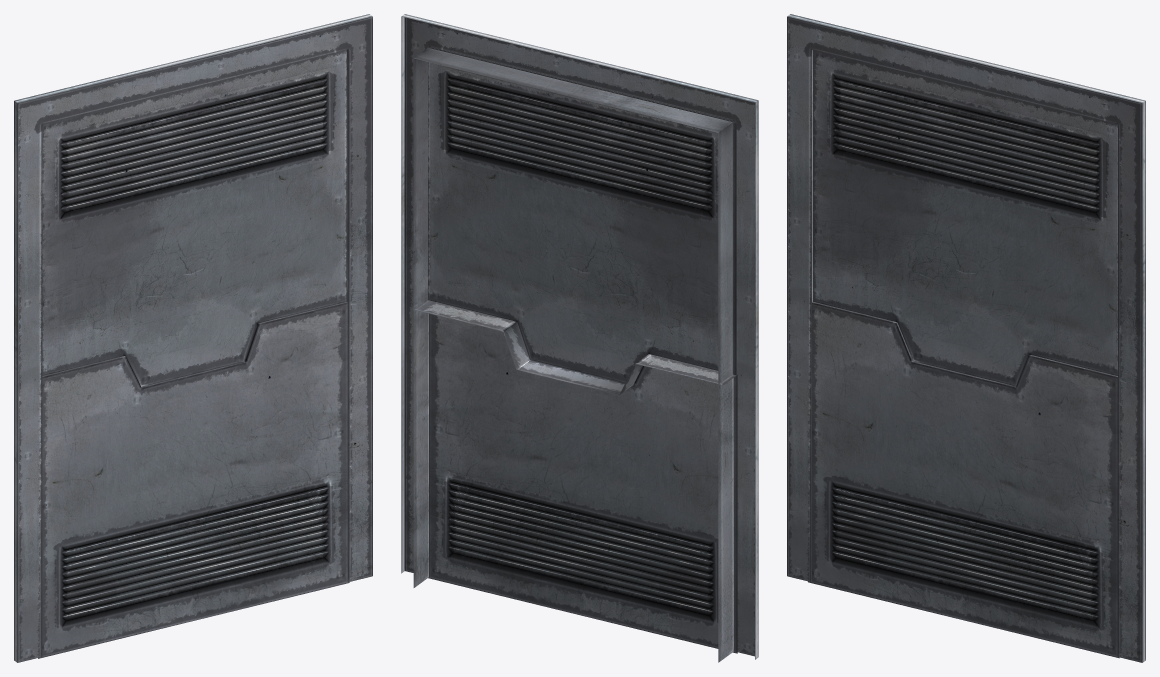
File: DoorSmall.fbx
3 renders of one model, left to right at view 1: azimuth 30°, elevation 25°; view 2: azimuth 150°, elevation 25°; view 3: azimuth 330°, elevation 25°, orthographic.
Visible parts, largest first — view 1: Door_Small_Clean; view 2: Door_Small_Clean; view 3: Door_Small_Clean.
Boxes of the visible parts, x1,y1,x2,y2 form: Door_Small_Clean: [14, 14, 372, 662]; Door_Small_Clean: [401, 14, 758, 662]; Door_Small_Clean: [787, 14, 1145, 662].
Bounding box in the file's own units: 2.47 × 3.73 × 0.1922.
